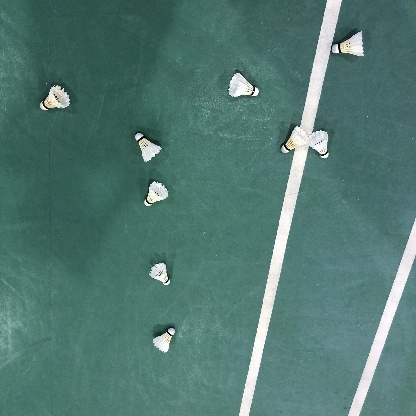ball_single: (332, 31, 364, 56), (281, 126, 310, 153), (135, 133, 162, 162), (40, 85, 70, 111), (228, 73, 259, 97), (144, 181, 169, 206), (307, 130, 329, 158), (153, 328, 175, 352), (149, 263, 170, 285)
